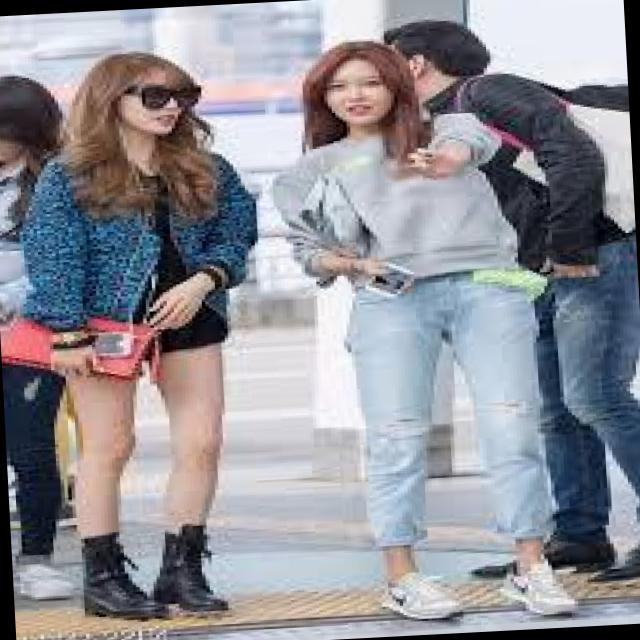pants: (330, 264, 568, 558), (521, 229, 640, 547)
sweater: (232, 119, 540, 300), (34, 120, 278, 339)
